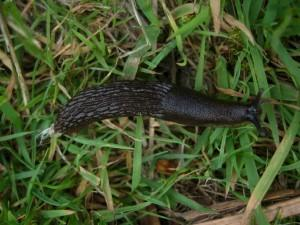slug: (49, 66, 276, 145)
